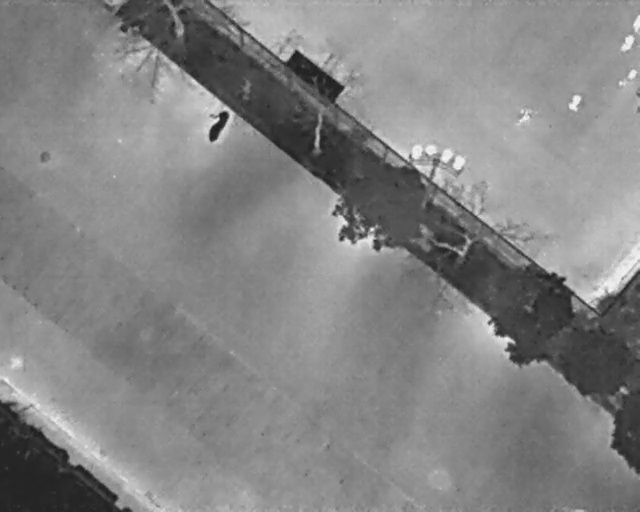Bicycle: (200, 103, 234, 146)
Person: (514, 104, 534, 129), (617, 32, 638, 55), (564, 90, 583, 115), (631, 13, 639, 36), (627, 66, 638, 81)
